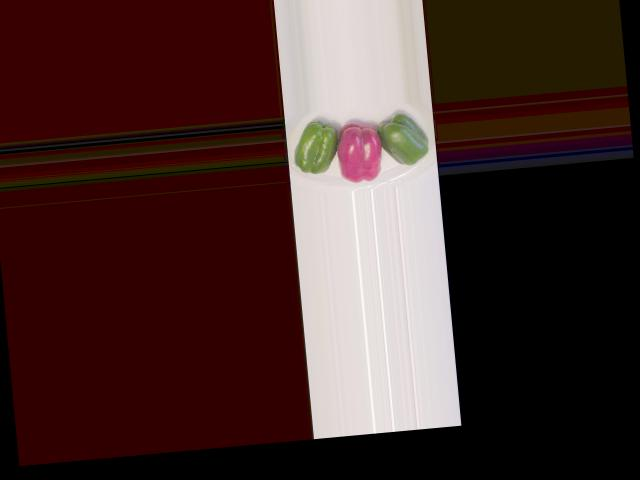bell_pepper: (375, 105, 433, 174)
